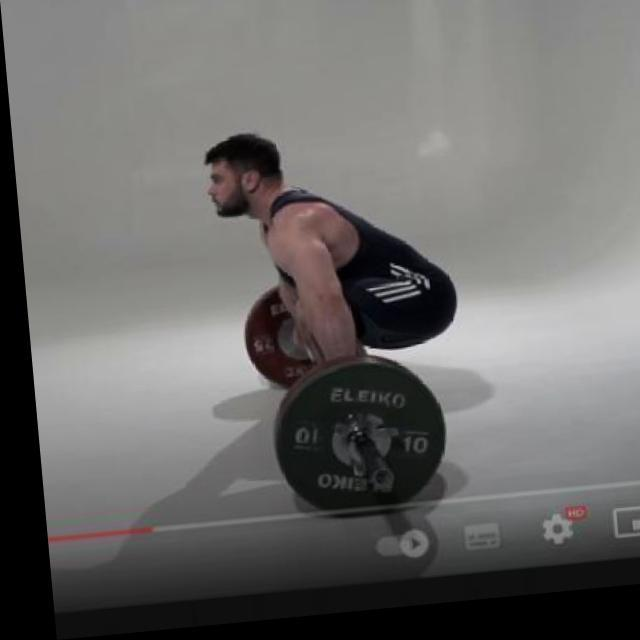barbell: (256, 358, 449, 532)
